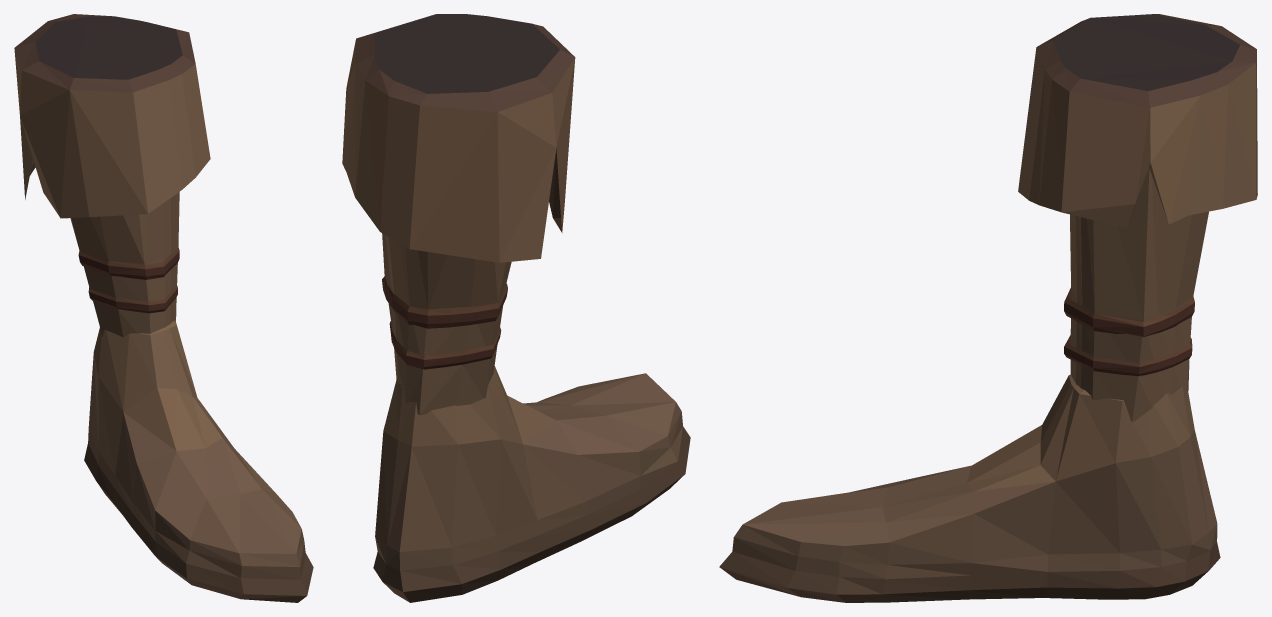
The model's file is hunterBootsFemale.glb.
The picture shows the model from 3 angles, left to right: view 1: azimuth 30°, elevation 25°; view 2: azimuth 150°, elevation 25°; view 3: azimuth 270°, elevation 25°; orthographic projection. The views are drawn at different scales.
Parts seen in each view (by area): view 1: hunterBootLowerLeg, hunterBootFootLeg; view 2: hunterBootLowerLeg, hunterBootFootLeg; view 3: hunterBootFootLeg, hunterBootLowerLeg.
Part boxes in pixels (left/top/right/bottom): hunterBootLowerLeg: left=14, top=14, right=210, bottom=337; hunterBootFootLeg: left=84, top=320, right=313, bottom=602; hunterBootLowerLeg: left=342, top=14, right=575, bottom=415; hunterBootFootLeg: left=373, top=366, right=690, bottom=602; hunterBootFootLeg: left=719, top=374, right=1220, bottom=602; hunterBootLowerLeg: left=1018, top=14, right=1257, bottom=421.
Bounding box in the file's own units: 0.1398 × 0.3352 × 0.3152.
